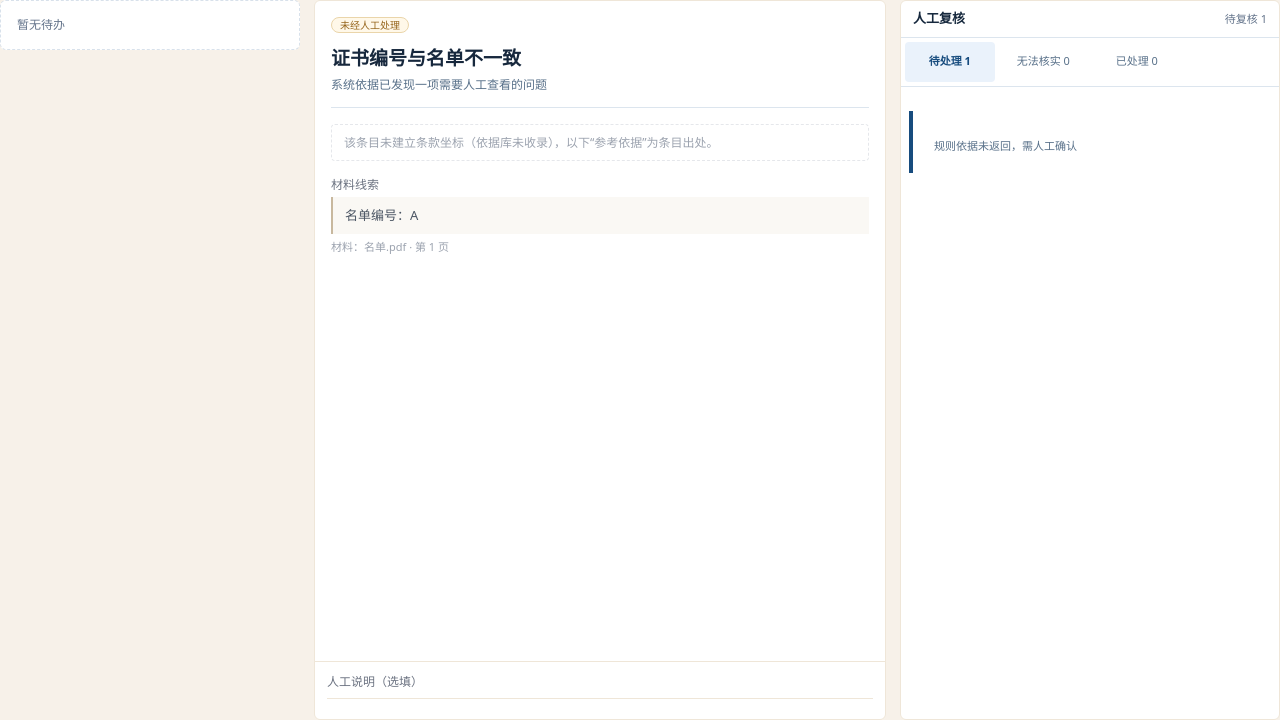
Test: prototype compare view shows subject, reason code and generic evidence roles
Click the button "规则依据未返回，需人工确认". click: point(1006, 145)
box: 925,122 -> 1259,161
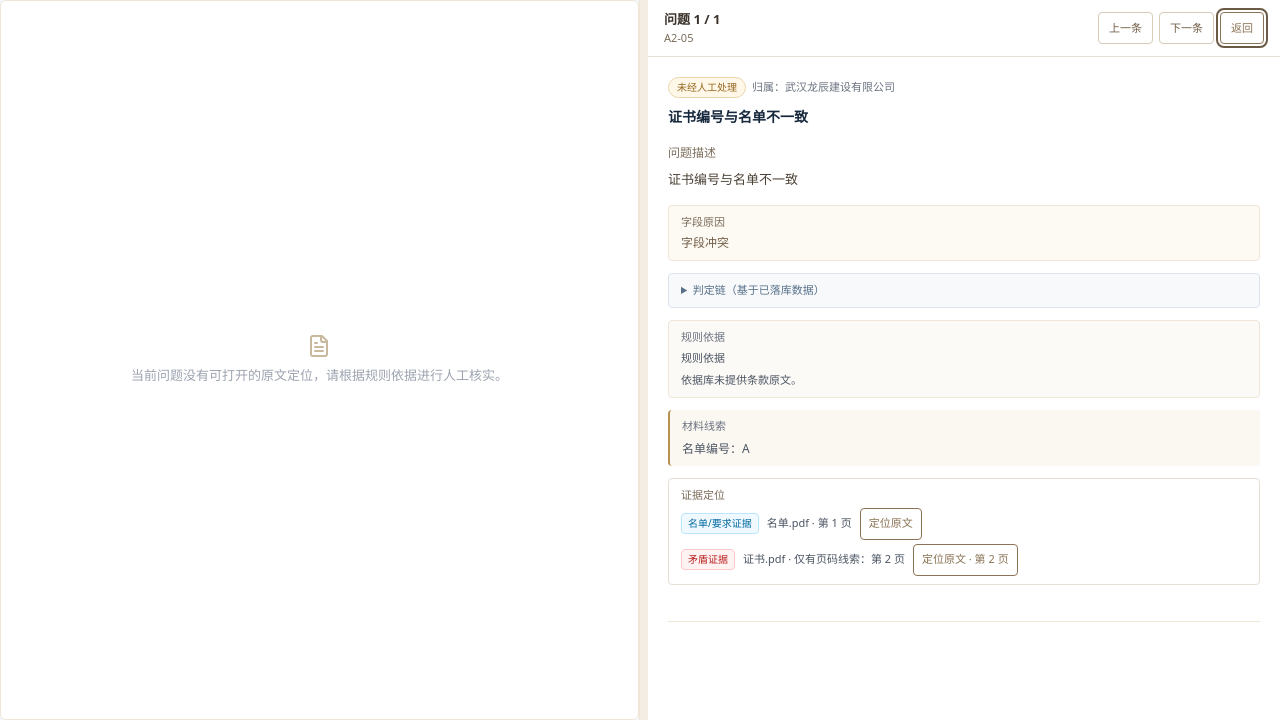
Expected: the text with test id "compare-subject" shows "武汉龙辰建设有限公司", 785,79 -> 895,94
Expected: the element with test id "compare-reason-code" shows "字段冲突", 681,234 -> 729,251
Expected: the text "名单/要求证据" is shown, 681,513 -> 759,534
